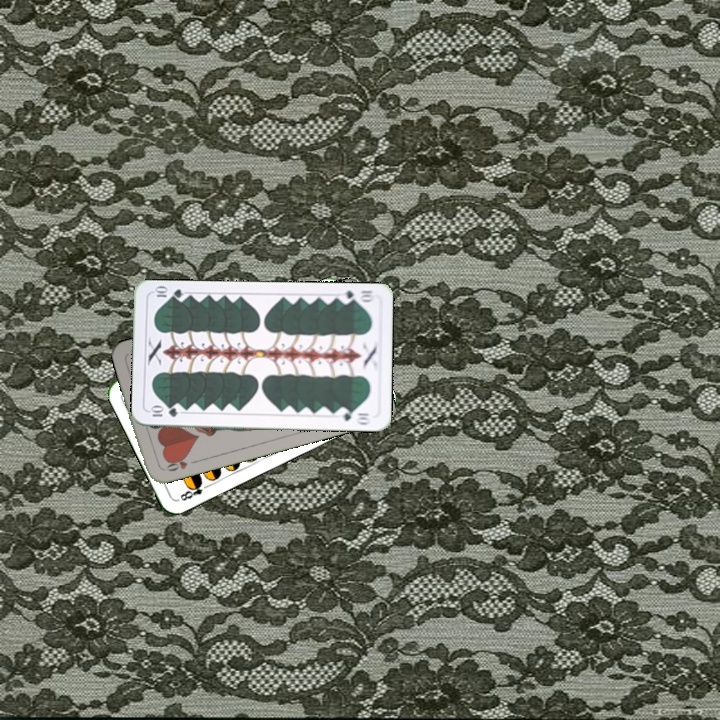E8: (174, 477, 212, 504)
G10: (336, 286, 377, 306), (146, 404, 180, 419)
HO: (158, 452, 198, 474)
